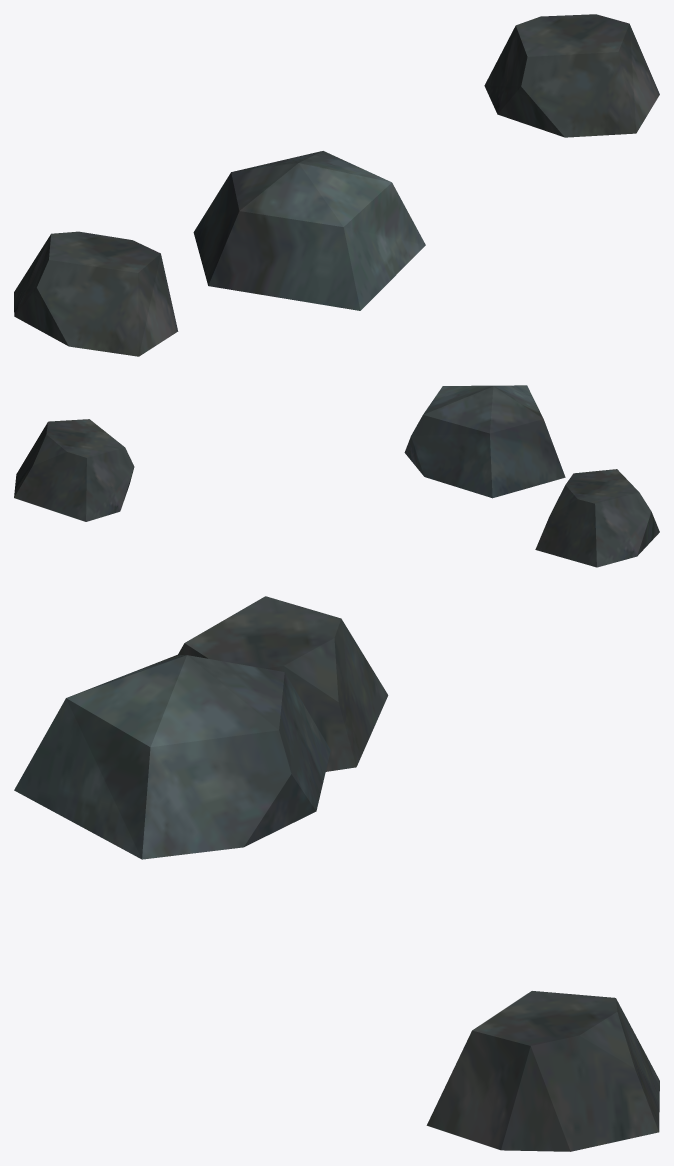
Rendered from object_rubble16.fbx.
The picture shows the model from 3 angles, top to bottom: view 1: azimuth 30°, elevation 25°; view 2: azimuth 150°, elevation 25°; view 3: azimuth 270°, elevation 25°; orthographic projection. The views are drawn at different scales.
Parts seen in each view (by area): view 1: obj0.090; view 2: obj0.090; view 3: obj0.090.
Boxes of the visible parts, left/top/right/bottom form: obj0.090: left=14, top=14, right=659, bottom=356; obj0.090: left=14, top=385, right=659, bottom=567; obj0.090: left=14, top=596, right=659, bottom=1151.
Size of the model in its own units: 1.66 by 0.3135 by 0.9495.
